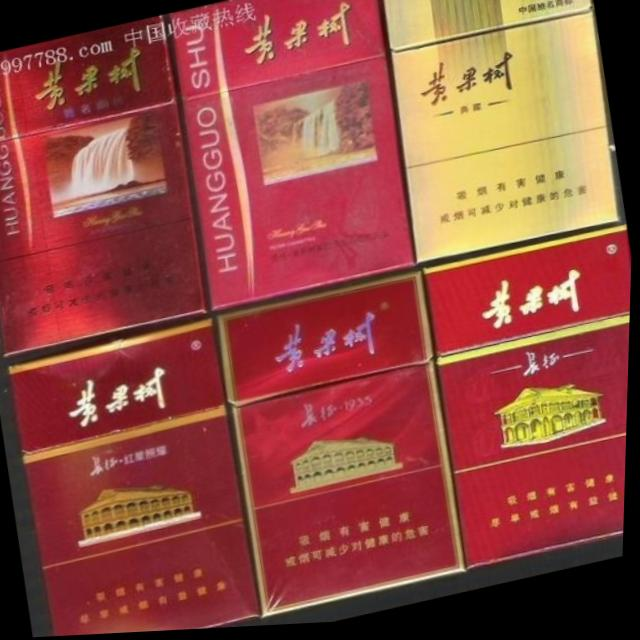box: (215, 272, 470, 623), (10, 316, 268, 637), (167, 0, 417, 321), (422, 231, 633, 576), (0, 16, 211, 359), (381, 0, 626, 273)
